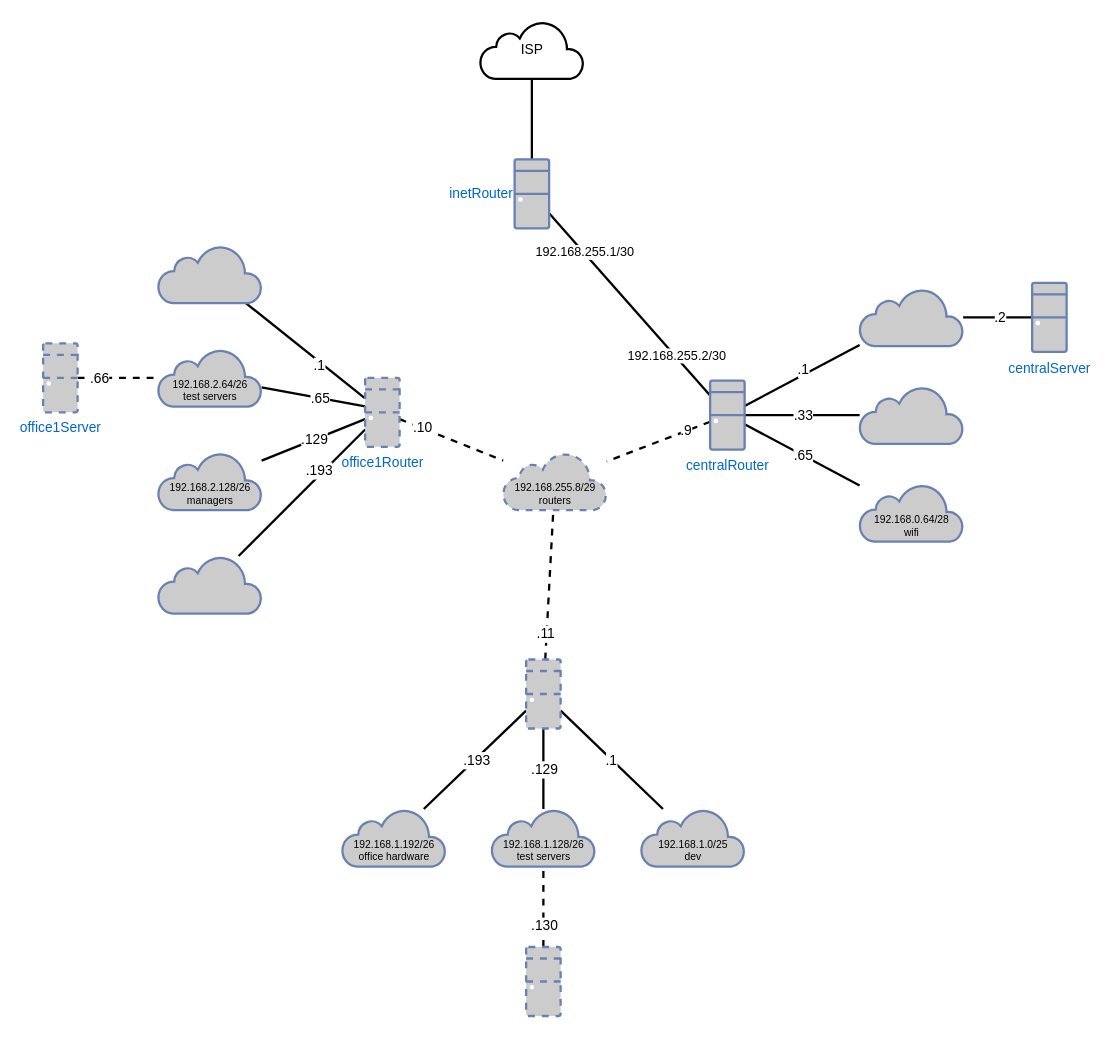
Some shapes in this 1110 by 1059 pixel diagram are drawn without their labels. The shapes that lost their labels are listed below. From the top down, each one's centre as x and y in pixels, then its label:
At (209,274): "192.168.2.0/26 dev".
At (911,317): "192.168.0.0/28 directors".
At (911,414): "192.168.0.32/28 office hardware".
At (209,584): "192.168.2.192/26 office hardware".
At (542,693): "office2Router".
At (542,981): "office2Server".
